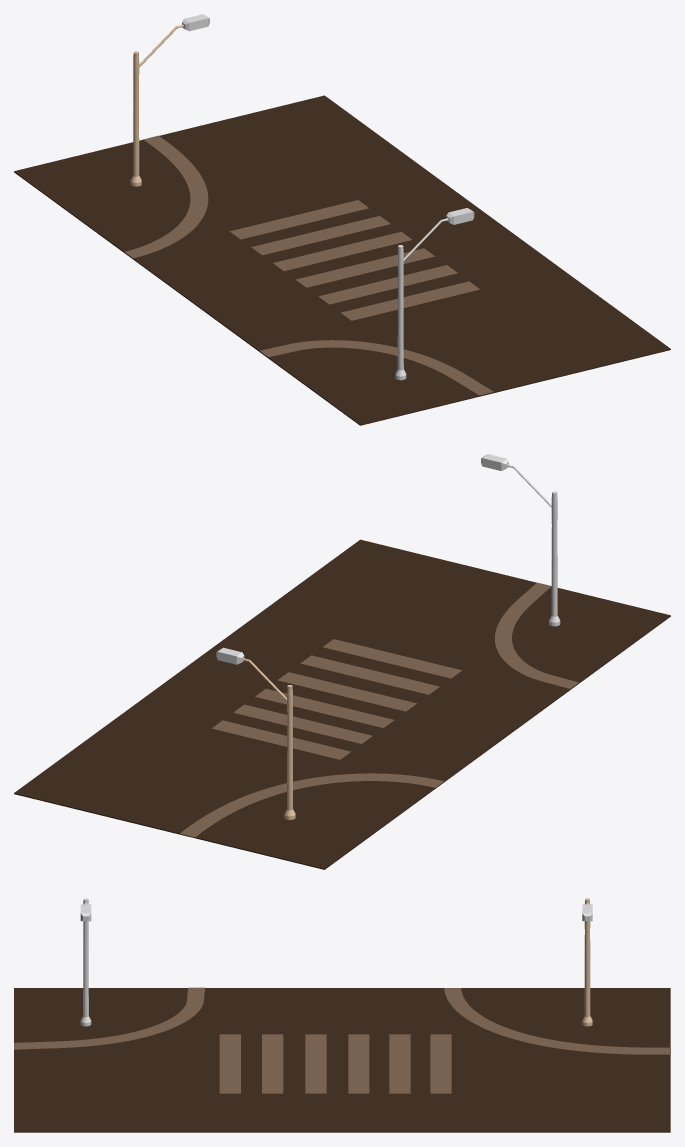
File: stage2.fbx
3 renders of one model, top to bottom at view 1: azimuth 30°, elevation 25°; view 2: azimuth 150°, elevation 25°; view 3: azimuth 270°, elevation 25°, orthographic. The views are drawn at different scales.
Parts seen in each view (by area): view 1: road.004, 白線.008, 白線.010, 白線.003, 白線.004, 白線.005, 白線.001, 白線, 白線.002, Cylinder.002, Cylinder.003; view 2: road.004, 白線.008, 白線.010, 白線.001, 白線.002, 白線, 白線.004, 白線.005, 白線.003, Cylinder.003, Cylinder.002; view 3: road.004, 白線.008, 白線.010, 白線, 白線.001, 白線.002, 白線.003, 白線.004, 白線.005, Cylinder.002, Cylinder.003.
Boxes of the visible parts, x1,y1,x2,y2 form: road.004: [14, 95, 670, 425]; 白線.008: [125, 135, 208, 258]; 白線.010: [259, 340, 493, 395]; 白線.003: [273, 231, 412, 271]; 白線.004: [251, 216, 390, 255]; 白線.005: [230, 200, 368, 239]; 白線.001: [318, 265, 457, 304]; 白線: [341, 281, 479, 320]; 白線.002: [296, 248, 434, 287]; Cylinder.002: [130, 24, 183, 186]; Cylinder.003: [395, 218, 448, 380]; road.004: [14, 539, 670, 869]; 白線.008: [180, 773, 443, 837]; 白線.010: [495, 582, 578, 688]; 白線.001: [300, 655, 439, 694]; 白線.002: [278, 672, 416, 711]; 白線: [323, 639, 461, 678]; 白線.004: [233, 704, 372, 743]; 白線.005: [212, 720, 350, 759]; 白線.003: [255, 688, 394, 727]; Cylinder.003: [506, 464, 560, 626]; Cylinder.002: [242, 658, 295, 819]; road.004: [14, 988, 670, 1132]; 白線.008: [444, 988, 670, 1054]; 白線.010: [14, 987, 204, 1049]; 白線: [219, 1034, 240, 1093]; 白線.001: [262, 1034, 283, 1093]; 白線.002: [305, 1034, 326, 1093]; 白線.003: [348, 1034, 369, 1093]; 白線.004: [389, 1034, 410, 1093]; 白線.005: [430, 1034, 451, 1093]; Cylinder.002: [582, 898, 592, 1026]; Cylinder.003: [80, 898, 91, 1026].
Size of the model in its own units: 1701 by 796 by 3286.
